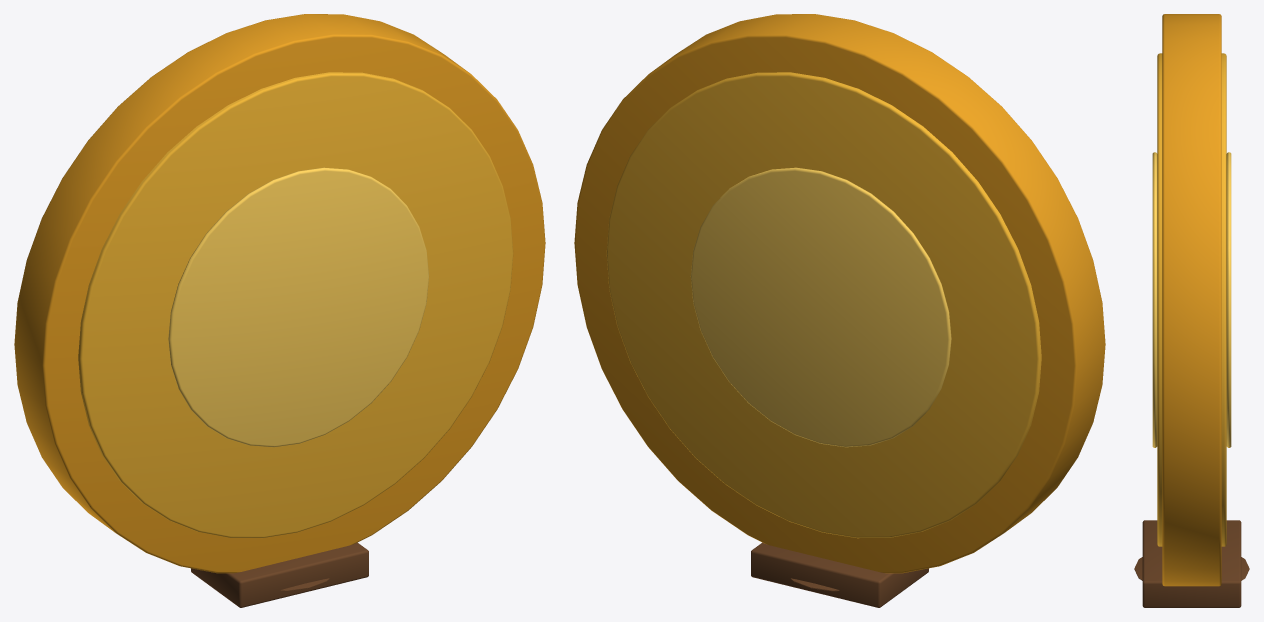
The model's file is coin.glb.
3 renders of one model, left to right at view 1: azimuth 30°, elevation 25°; view 2: azimuth 150°, elevation 25°; view 3: azimuth 270°, elevation 25°, orthographic.
Parts seen in each view (by area): view 1: coin; view 2: coin; view 3: coin.
Boxes of the visible parts, bbox=[...] form: coin: bbox=[14, 14, 545, 607]; coin: bbox=[574, 14, 1105, 607]; coin: bbox=[1134, 14, 1249, 607].
Size of the model in its own units: 1.16 by 1.2 by 0.2341.
